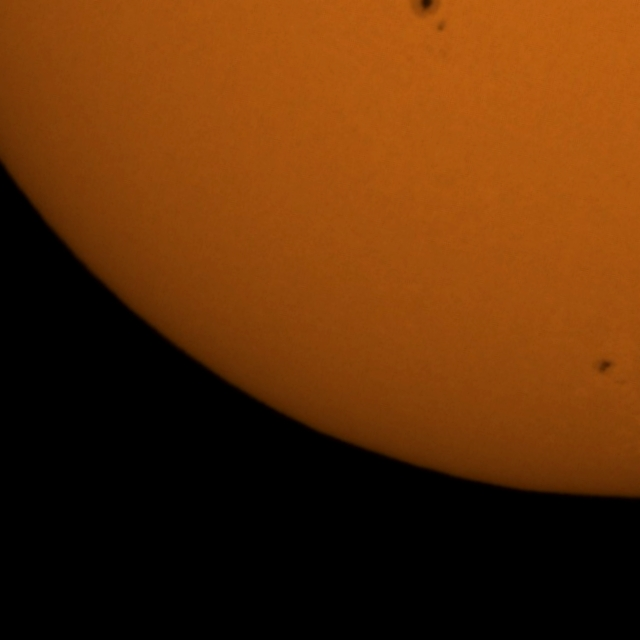sunspot: (410, 0, 448, 34), (595, 358, 627, 389), (593, 358, 615, 377), (434, 18, 447, 35)
